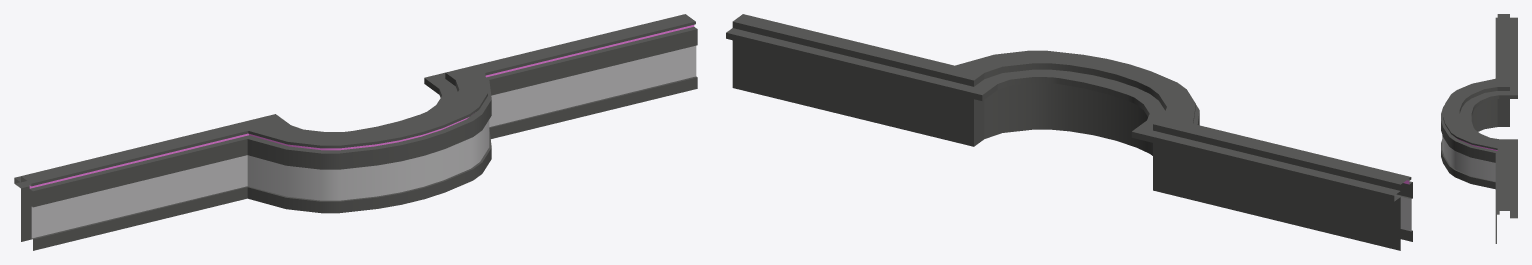
File: Bar_Bar.fbx
3 views of the same model, side by side, from view 1: azimuth 30°, elevation 25°; view 2: azimuth 150°, elevation 25°; view 3: azimuth 270°, elevation 25° (orthographic). The views are drawn at different scales.
Visible parts, largest first — view 1: Bar_Bar; view 2: Bar_Bar; view 3: Bar_Bar.
Part boxes in pixels (box(x1,y1,x2,y2)): Bar_Bar: box(14, 14, 697, 250); Bar_Bar: box(726, 14, 1412, 250); Bar_Bar: box(1441, 14, 1517, 243).
Size of the model in its own units: 1346 by 128 by 222.
